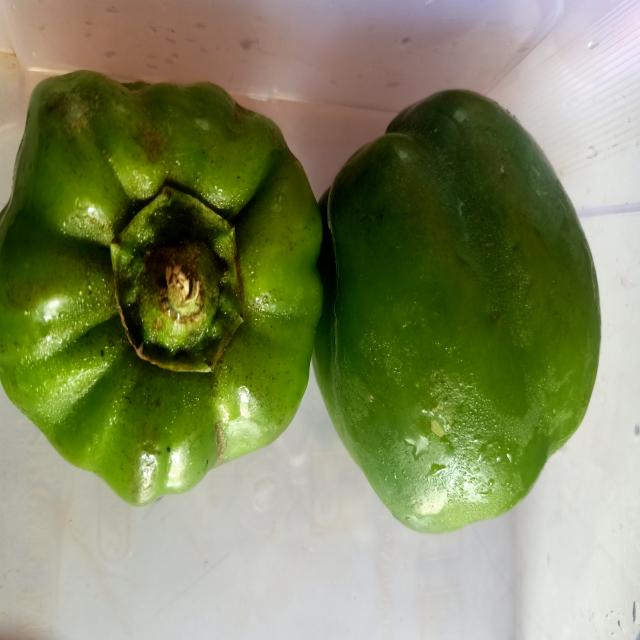Capsicum: (310, 61, 628, 572), (0, 46, 320, 520)
